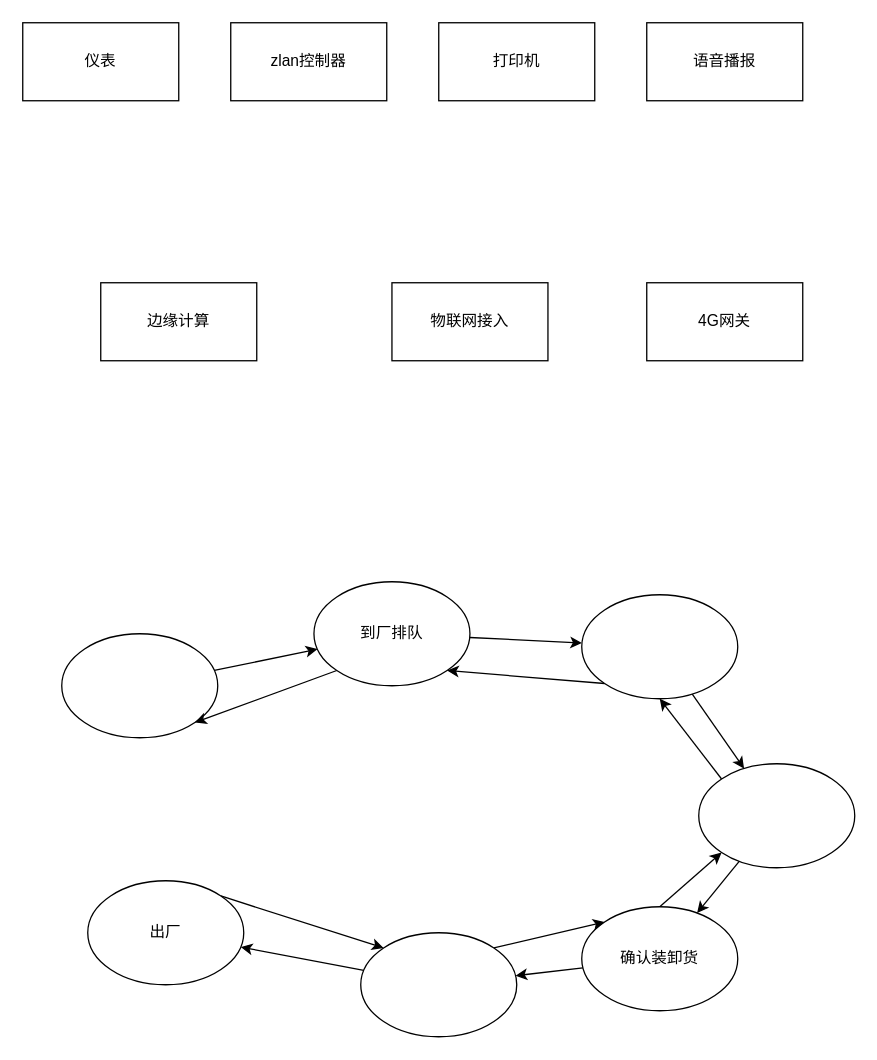
The diagram is 877 pixels wide and 1060 high, and some of its shapes have lost their labels. The box of each missing label's shape, as (x1, y1, x2, y2) in pixels:
一次过磅: (697, 762, 855, 868)
二次过磅: (359, 931, 517, 1037)
订单派车: (60, 632, 218, 738)
进厂: (580, 593, 738, 699)
